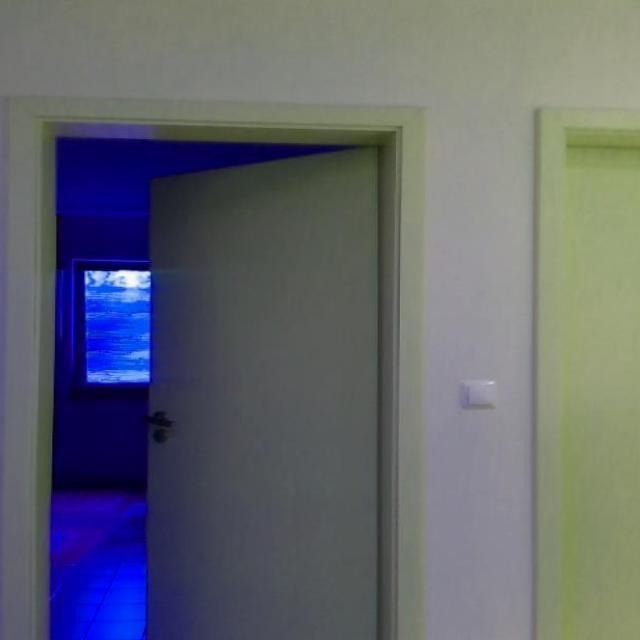door: (144, 145, 381, 639)
